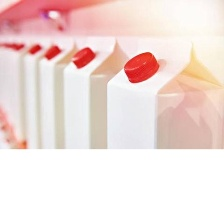carton: (104, 32, 223, 149), (61, 33, 133, 152)
